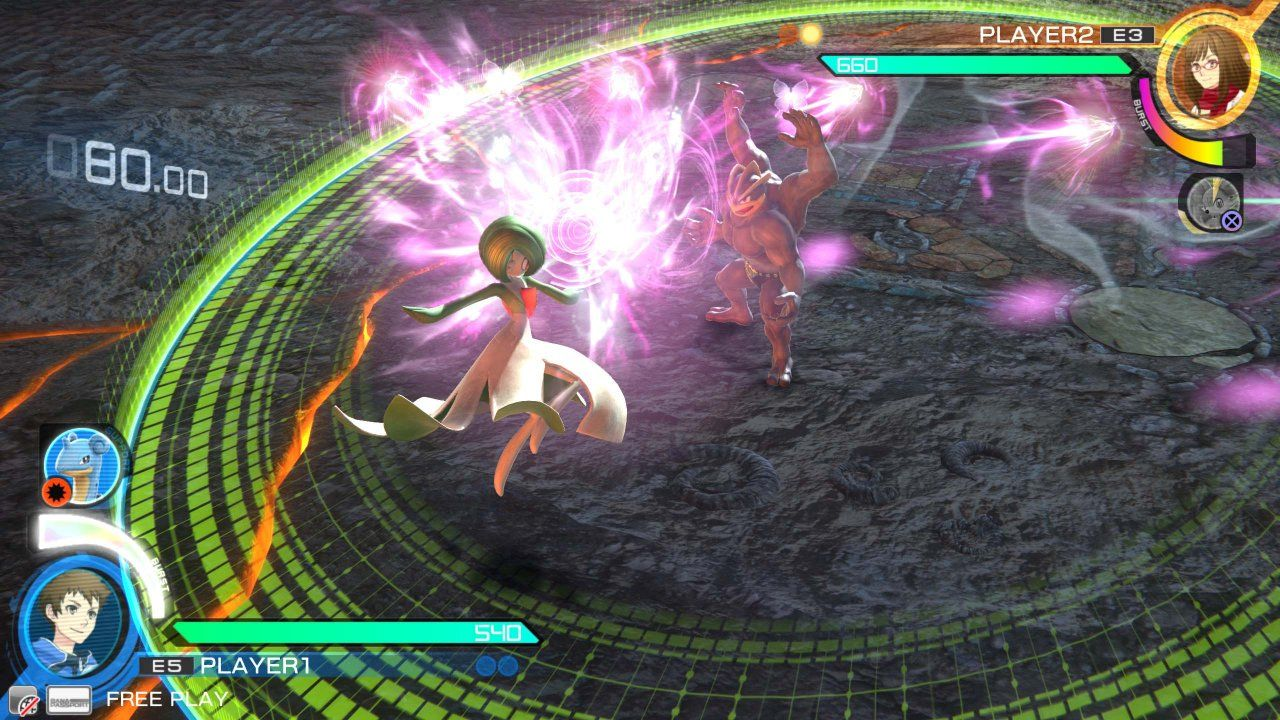gardevoir: (350, 212, 660, 512)
